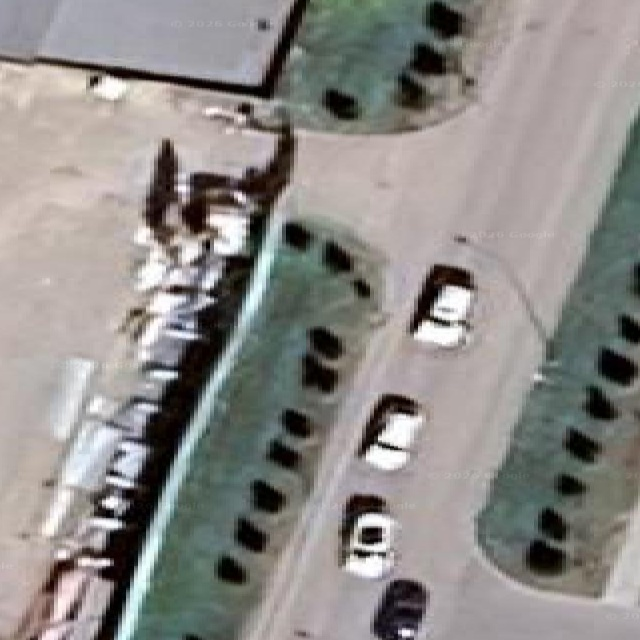car: (410, 265, 475, 347), (359, 395, 424, 470), (341, 495, 397, 578), (372, 579, 428, 639)
